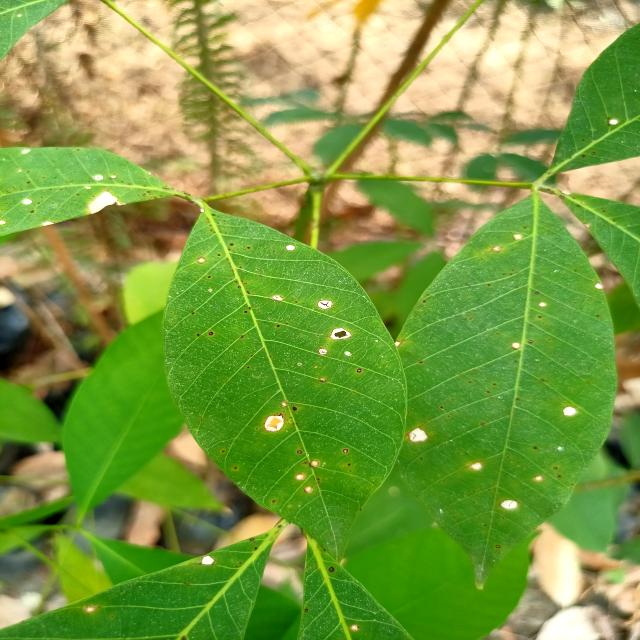Colletotrichum: (263, 414, 285, 432), (330, 328, 351, 340), (200, 555, 216, 565), (317, 300, 333, 309), (309, 460, 320, 467), (295, 473, 306, 480), (304, 486, 314, 493), (350, 624, 360, 631), (318, 348, 328, 355), (533, 475, 543, 482), (286, 245, 296, 251), (23, 199, 33, 205), (512, 342, 520, 349), (197, 257, 206, 263), (513, 234, 522, 240), (594, 283, 602, 289), (328, 566, 335, 572), (539, 302, 546, 307), (208, 331, 214, 336), (0, 220, 7, 224), (357, 368, 362, 373), (343, 449, 348, 453), (297, 450, 302, 454), (250, 537, 255, 541), (293, 406, 297, 411), (528, 340, 533, 344), (304, 608, 308, 612), (276, 324, 280, 328), (557, 474, 561, 478), (480, 422, 484, 426), (30, 210, 35, 213), (553, 466, 557, 469), (533, 446, 537, 449), (222, 450, 225, 453), (272, 500, 276, 502), (244, 311, 248, 313), (230, 244, 234, 246), (247, 247, 251, 249), (468, 381, 472, 383), (534, 292, 538, 294), (234, 467, 237, 469), (247, 366, 250, 368), (197, 334, 200, 336), (238, 286, 241, 288), (208, 276, 211, 278), (218, 254, 220, 256), (229, 279, 232, 280)
Leaf-Blight: (90, 192, 126, 214)
